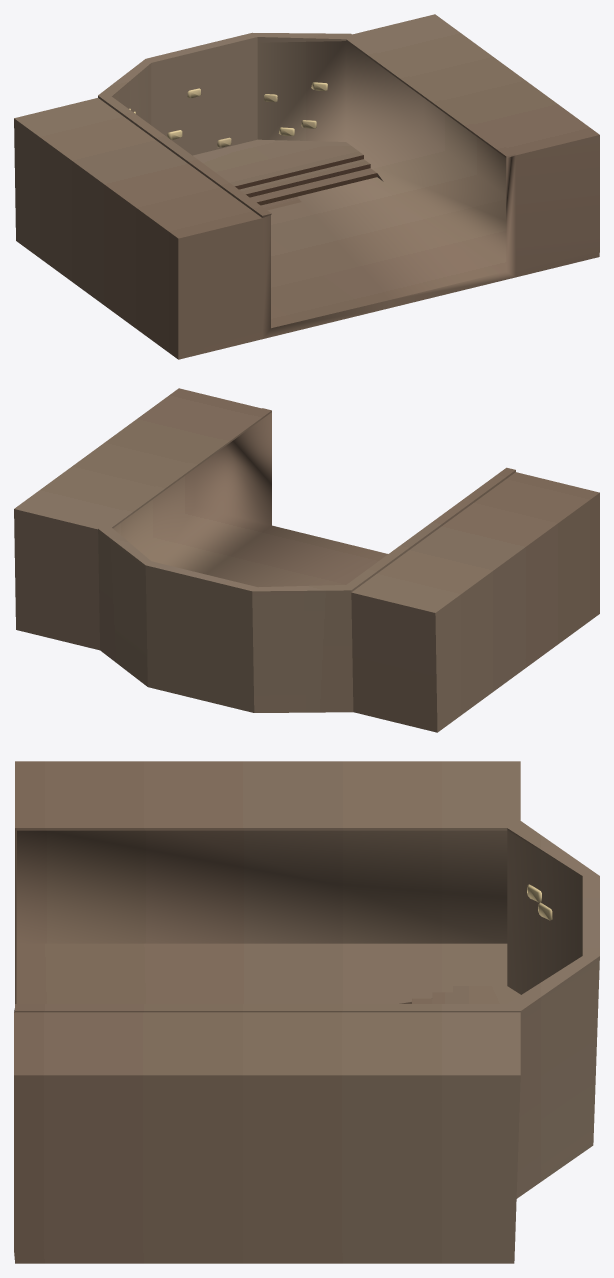
File: Court.fbx
The picture shows the model from 3 angles, top to bottom: view 1: azimuth 30°, elevation 25°; view 2: azimuth 150°, elevation 25°; view 3: azimuth 270°, elevation 25°; orthographic projection. The views are drawn at different scales.
Visible parts, largest first — view 1: Stair; view 2: Stair; view 3: Stair.
Part boxes in pixels (x1,y1,x2,y2): Stair: [14, 14, 599, 359]; Stair: [14, 388, 599, 732]; Stair: [14, 761, 599, 1263].
Bounding box in the file's own units: 1198 × 335 × 939.
Materials: 1 (1 with a texture image).
